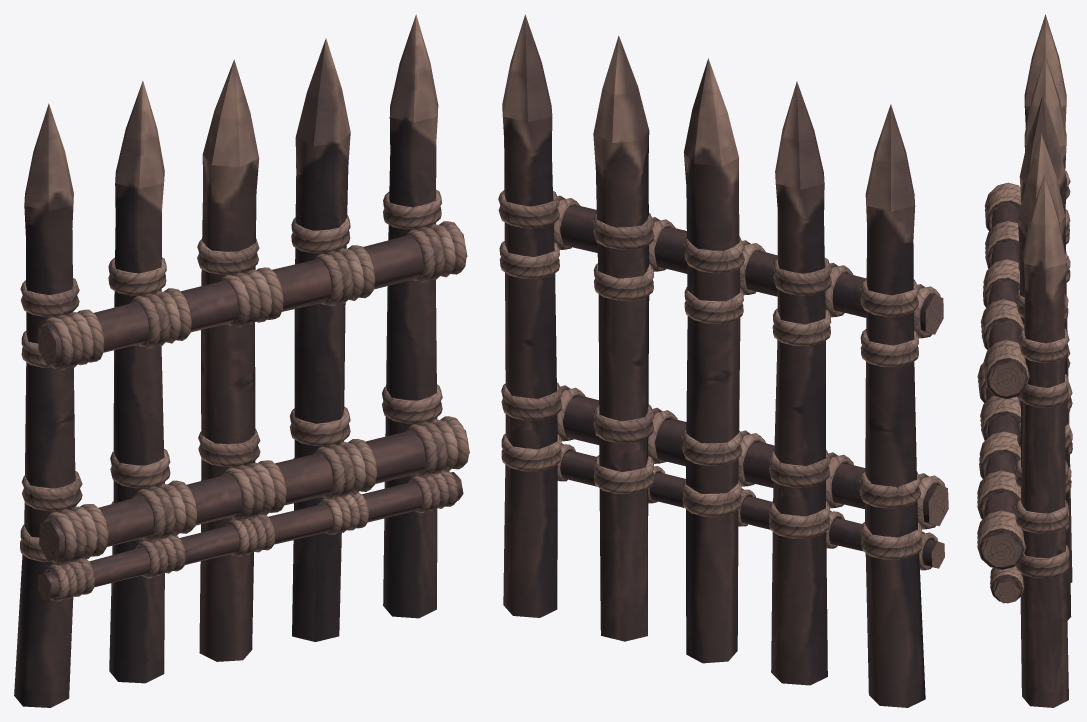
File: WoodFence_long.FBX
The picture shows the model from 3 angles, left to right: view 1: azimuth 30°, elevation 25°; view 2: azimuth 150°, elevation 25°; view 3: azimuth 270°, elevation 25°; orthographic projection. The views are drawn at different scales.
Visible parts, largest first — view 1: Cylinder019; view 2: Cylinder019; view 3: Cylinder019.
Boxes of the visible parts, left/top/right/bottom form: Cylinder019: left=14, top=14, right=469, bottom=707; Cylinder019: left=498, top=14, right=948, bottom=707; Cylinder019: left=977, top=14, right=1072, bottom=707.
Size of the model in its own units: 3.64 by 4.91 by 0.8084.
Materials: 1 (1 with a texture image).
